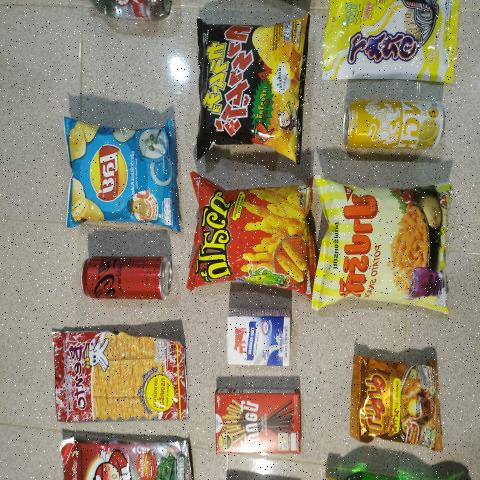bento_red: (54, 317, 186, 424)
coke_red: (83, 253, 172, 304)
karamujo: (197, 22, 305, 156)
lay_blue: (73, 129, 172, 222)
mama: (354, 366, 437, 441)
paprika: (324, 186, 444, 308)
pokki: (215, 392, 301, 452)
singha_yellow: (342, 97, 449, 148)
taro_yellow: (322, 0, 455, 82)
thai_denmark: (229, 304, 290, 366)
twisco: (196, 184, 306, 290)
